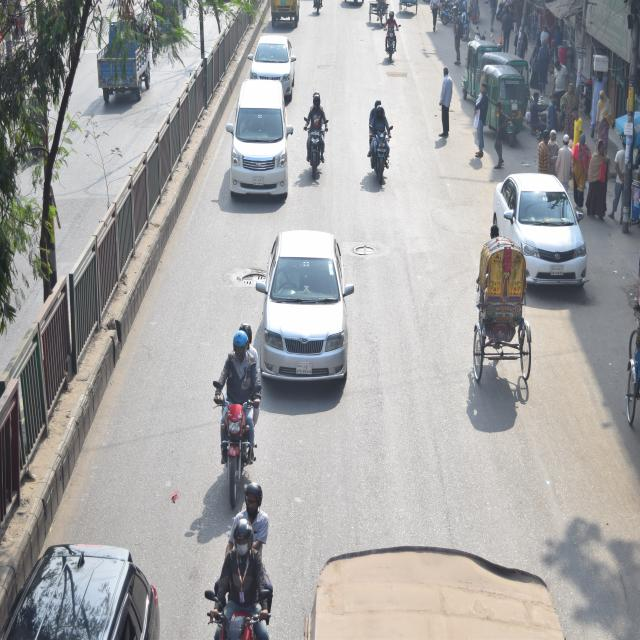car: (257, 225, 348, 391), (489, 166, 599, 286), (220, 75, 292, 222), (250, 28, 296, 94)
motorbike: (193, 514, 274, 640), (210, 361, 258, 486), (364, 114, 395, 184), (299, 109, 328, 180), (383, 17, 402, 64), (453, 5, 473, 39)
